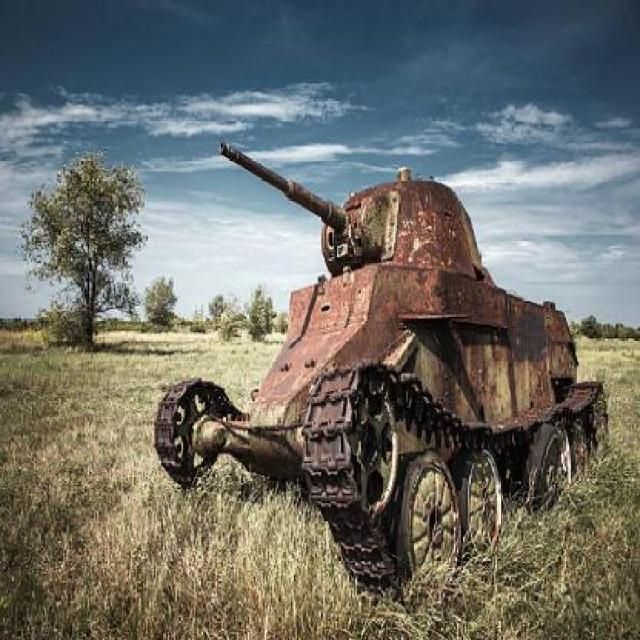corrosion: (156, 138, 613, 598)
